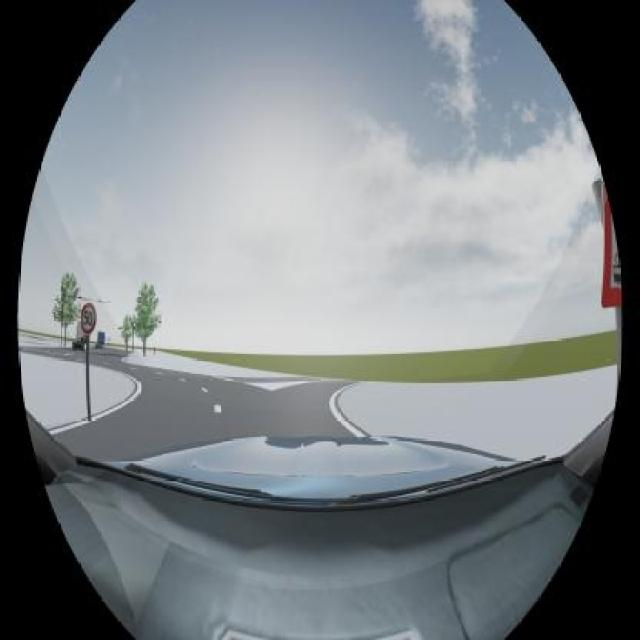forb_speed_over_50: (79, 302, 96, 333)
